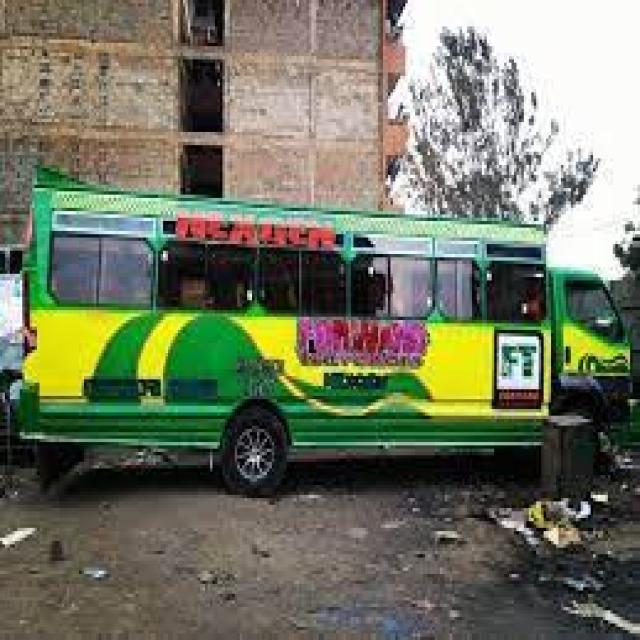bus: (11, 106, 640, 521)
